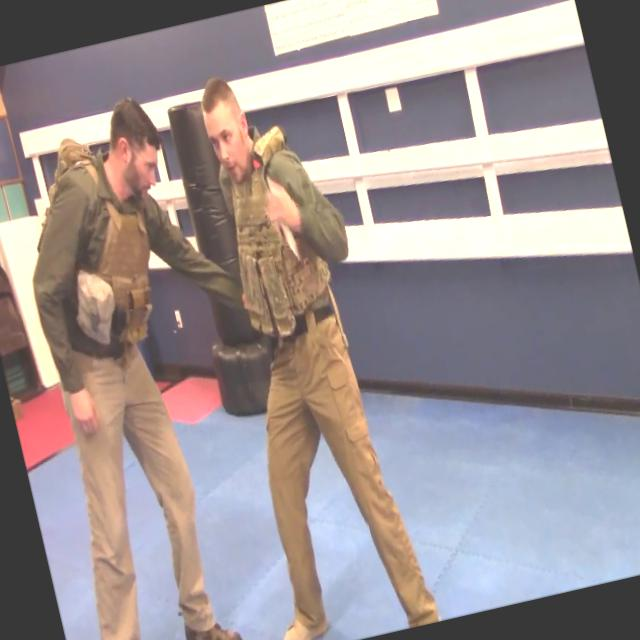knife: (272, 210, 306, 270)
